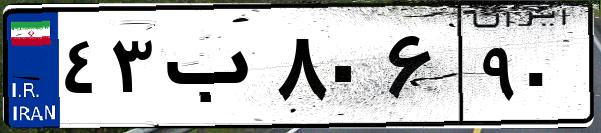0: (330, 28, 385, 110), (525, 38, 570, 115)
3: (110, 28, 158, 98)
4: (57, 26, 110, 100)
6: (385, 28, 445, 110)
8: (270, 28, 330, 110)
9: (475, 38, 525, 113)
ب: (158, 20, 270, 120)
